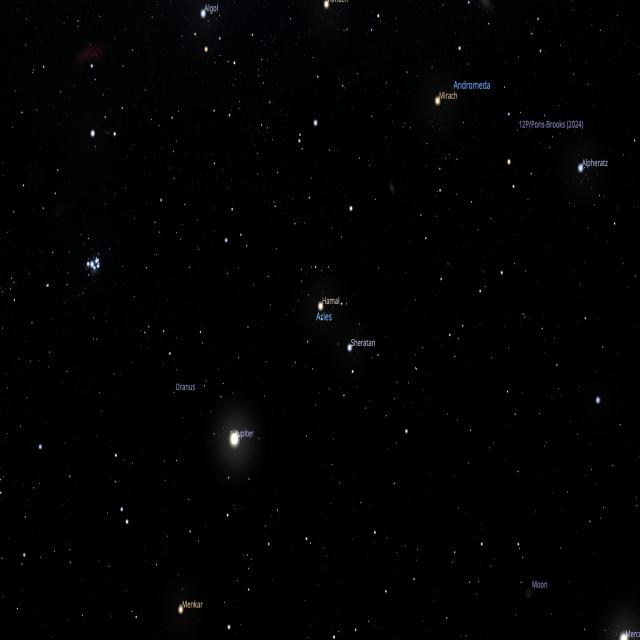Aries: (224, 235, 378, 376)
